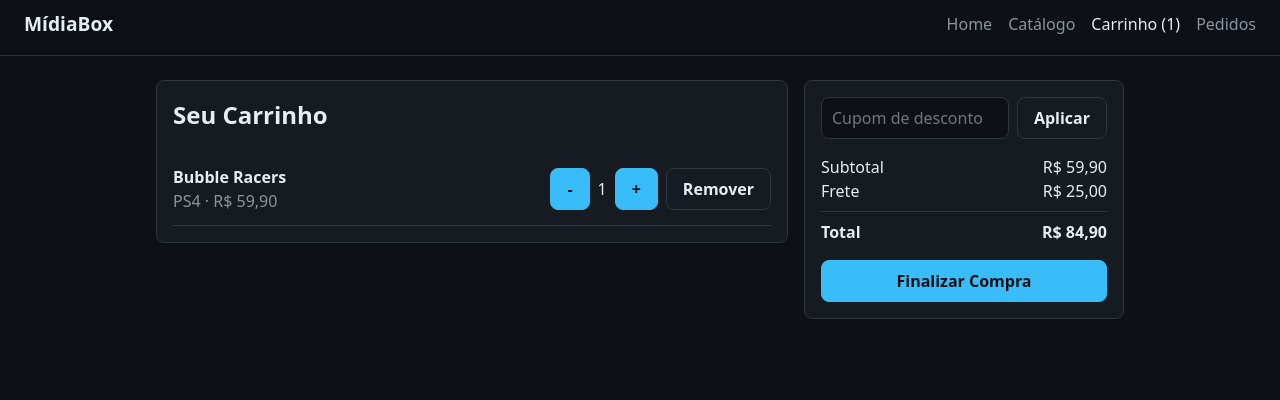
it: página Carrinho › aplica o cupom AERO10
This screenshot has width=1280, height=400.
Step 1. Type "aero10" into the field labelled "Cupom" → (915, 118), box [821,97,1009,139]
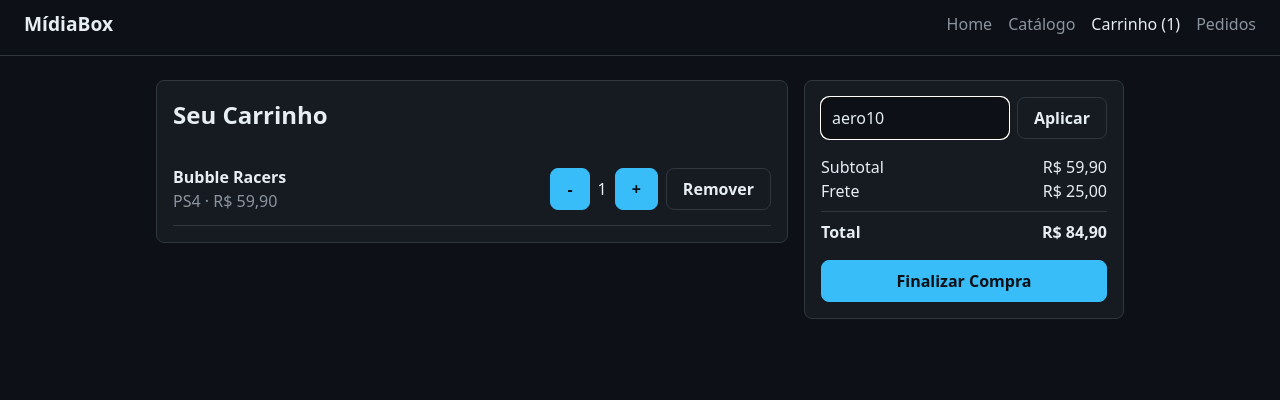
Step 2. Click the button "Aplicar" → click(1062, 118), box [1017,97,1107,139]
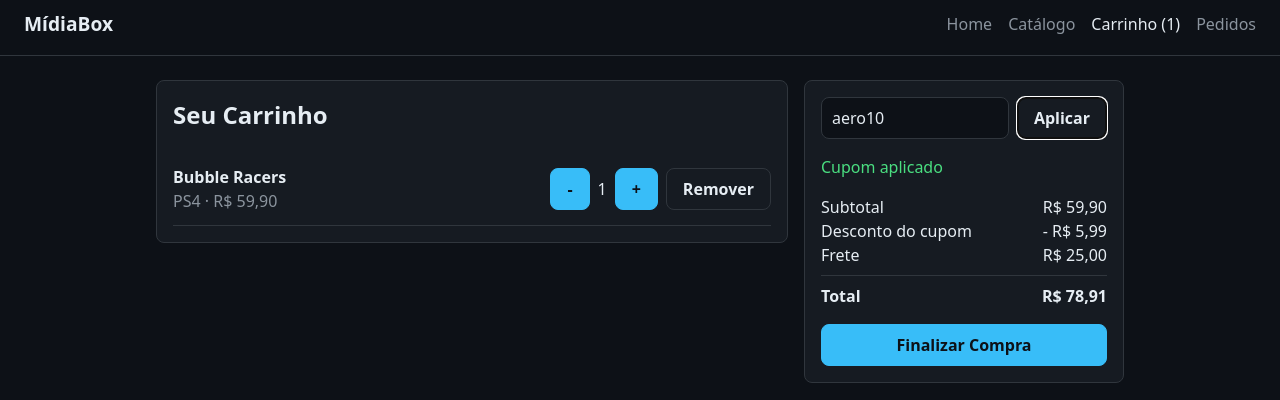
Check: the message reads "Cupom aplicado", box [821,156,943,178]
Check: the text with test id "total" reads "R$ 78,91", box [1042,285,1107,307]
